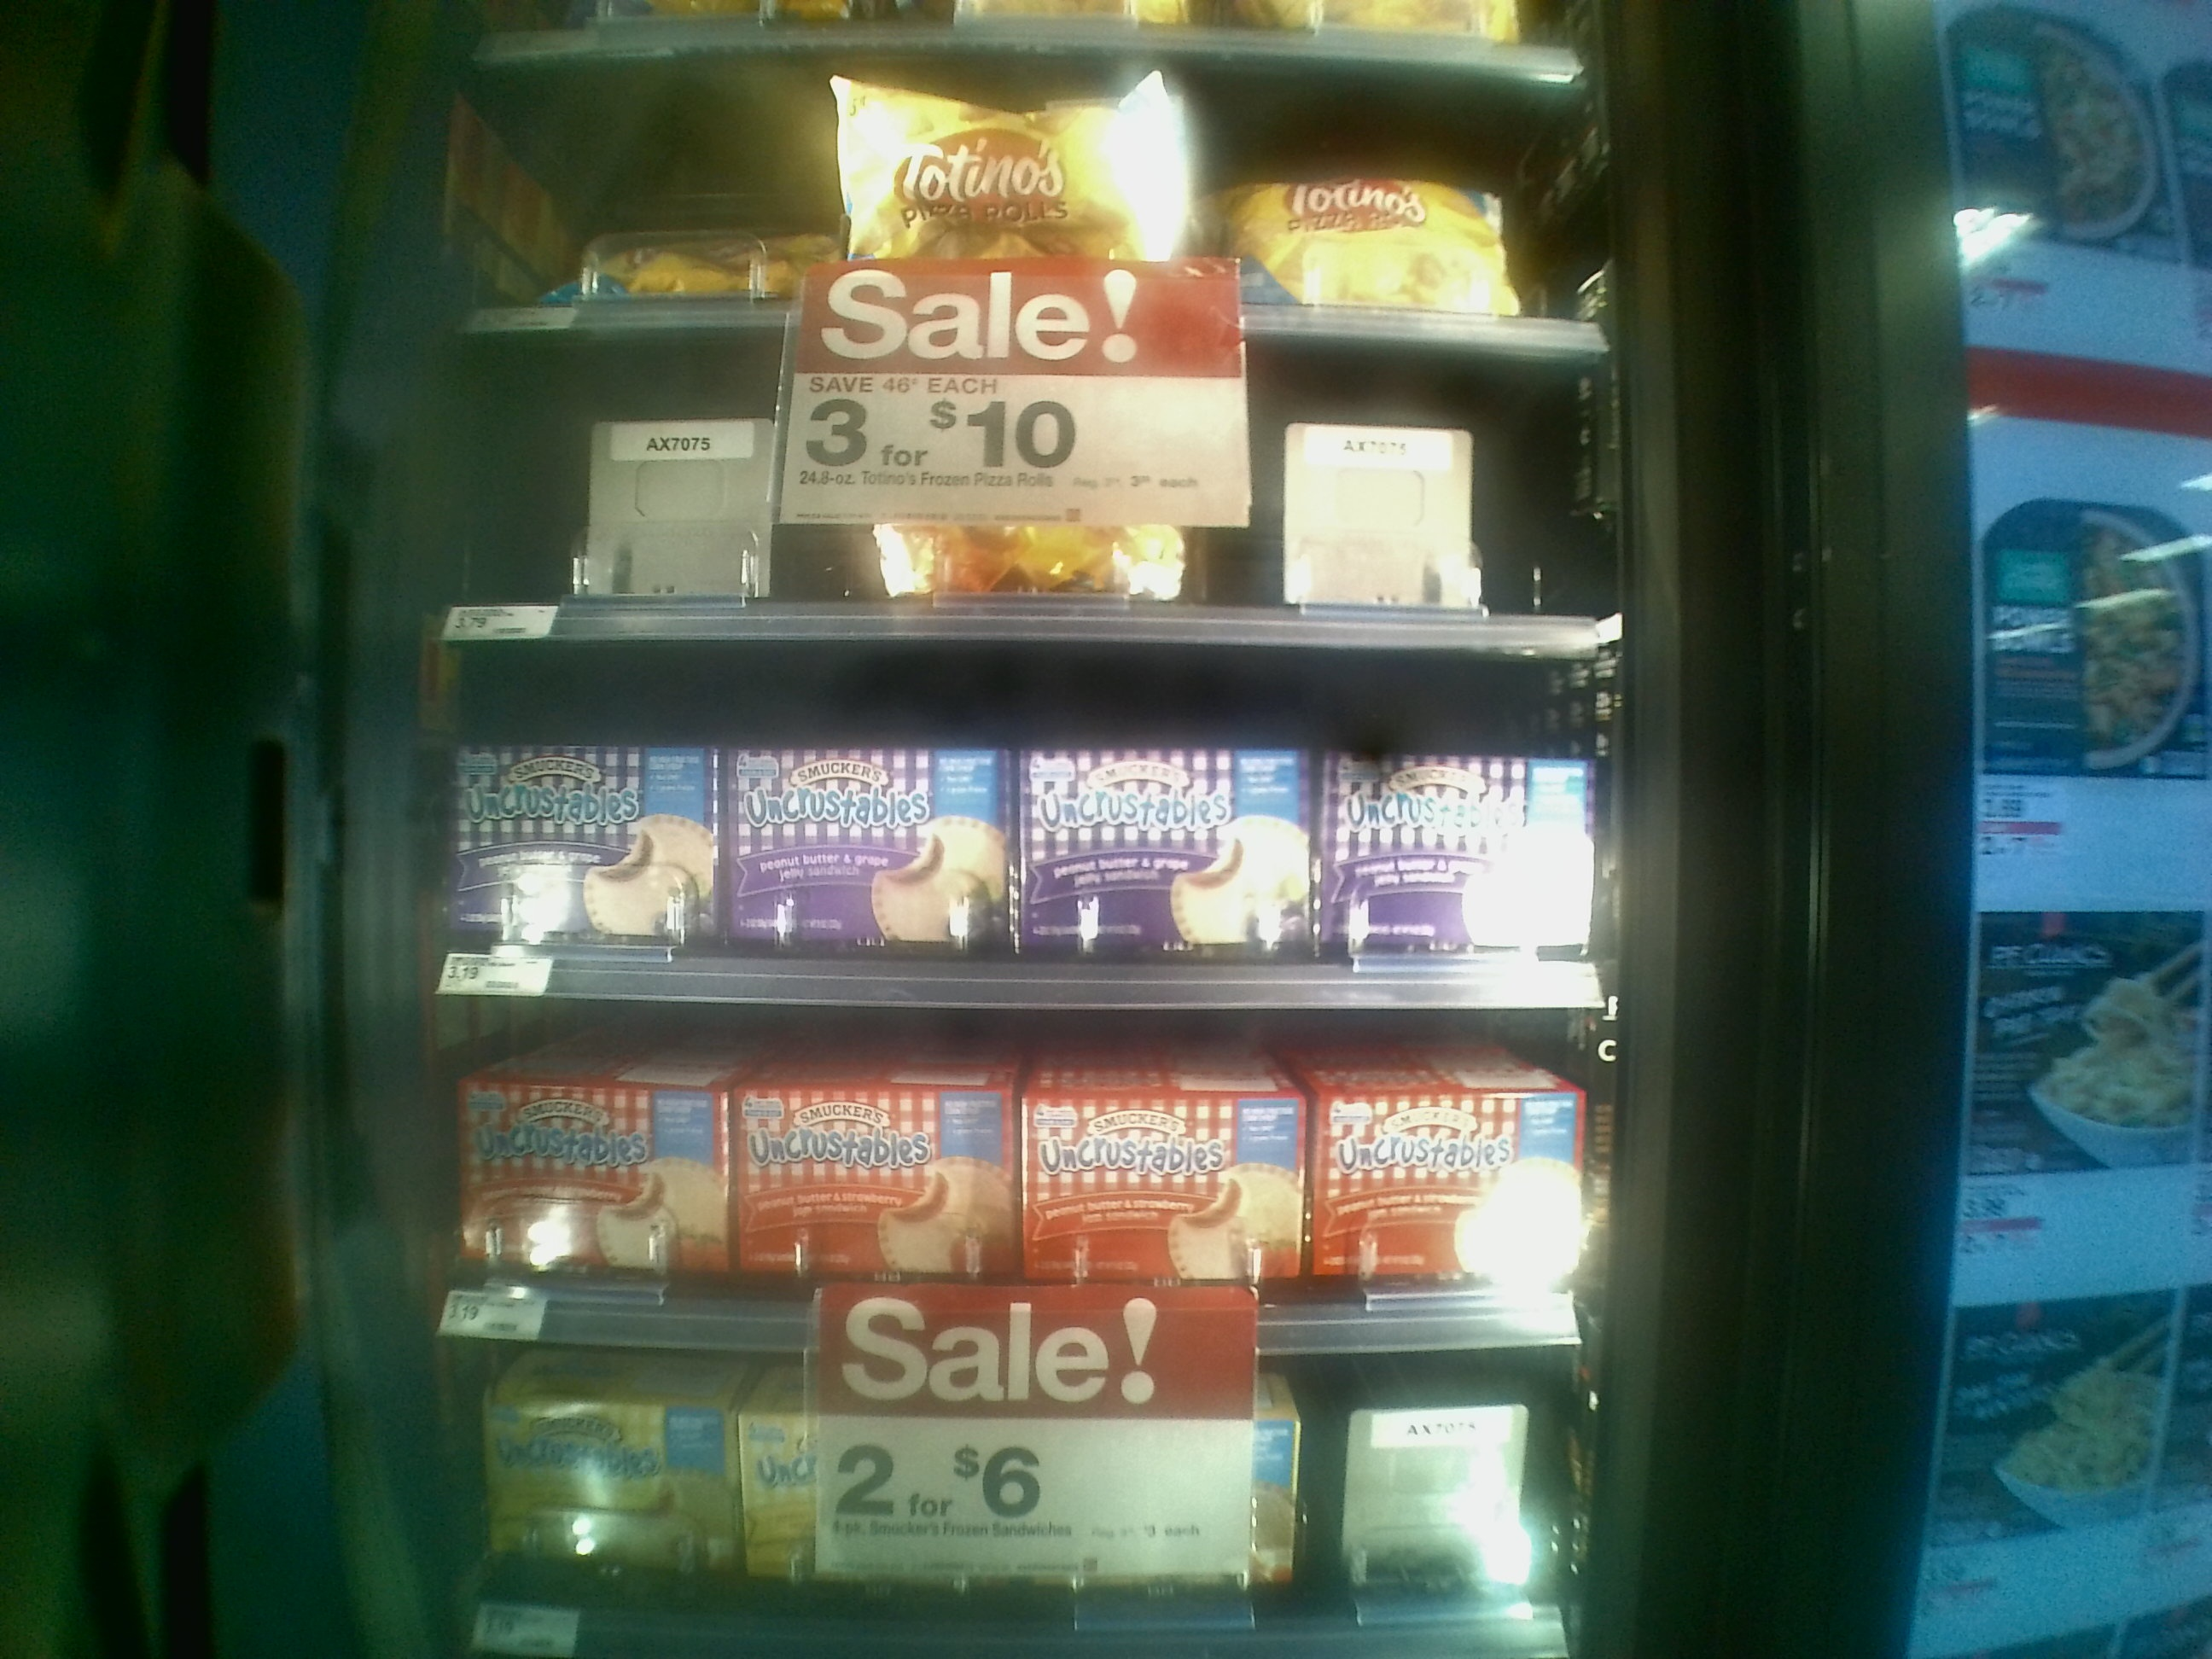shelf: (425, 636, 1602, 1019), (413, 995, 1609, 1358), (409, 329, 1620, 657)
